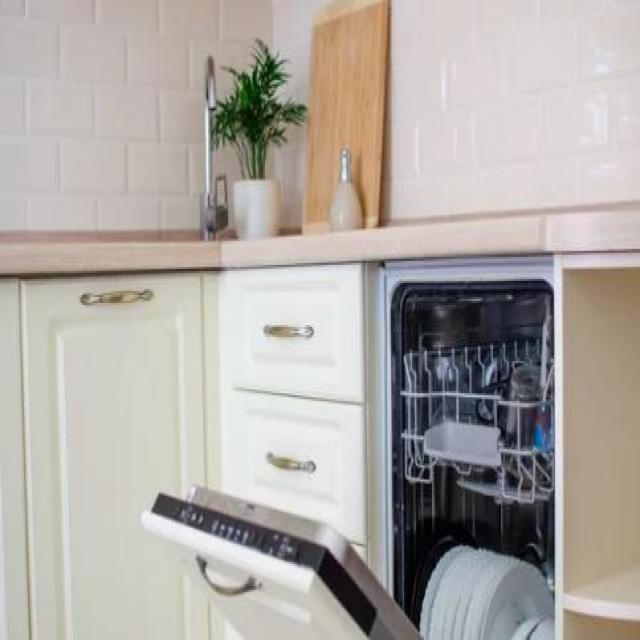dishwasher: (142, 247, 566, 638)
